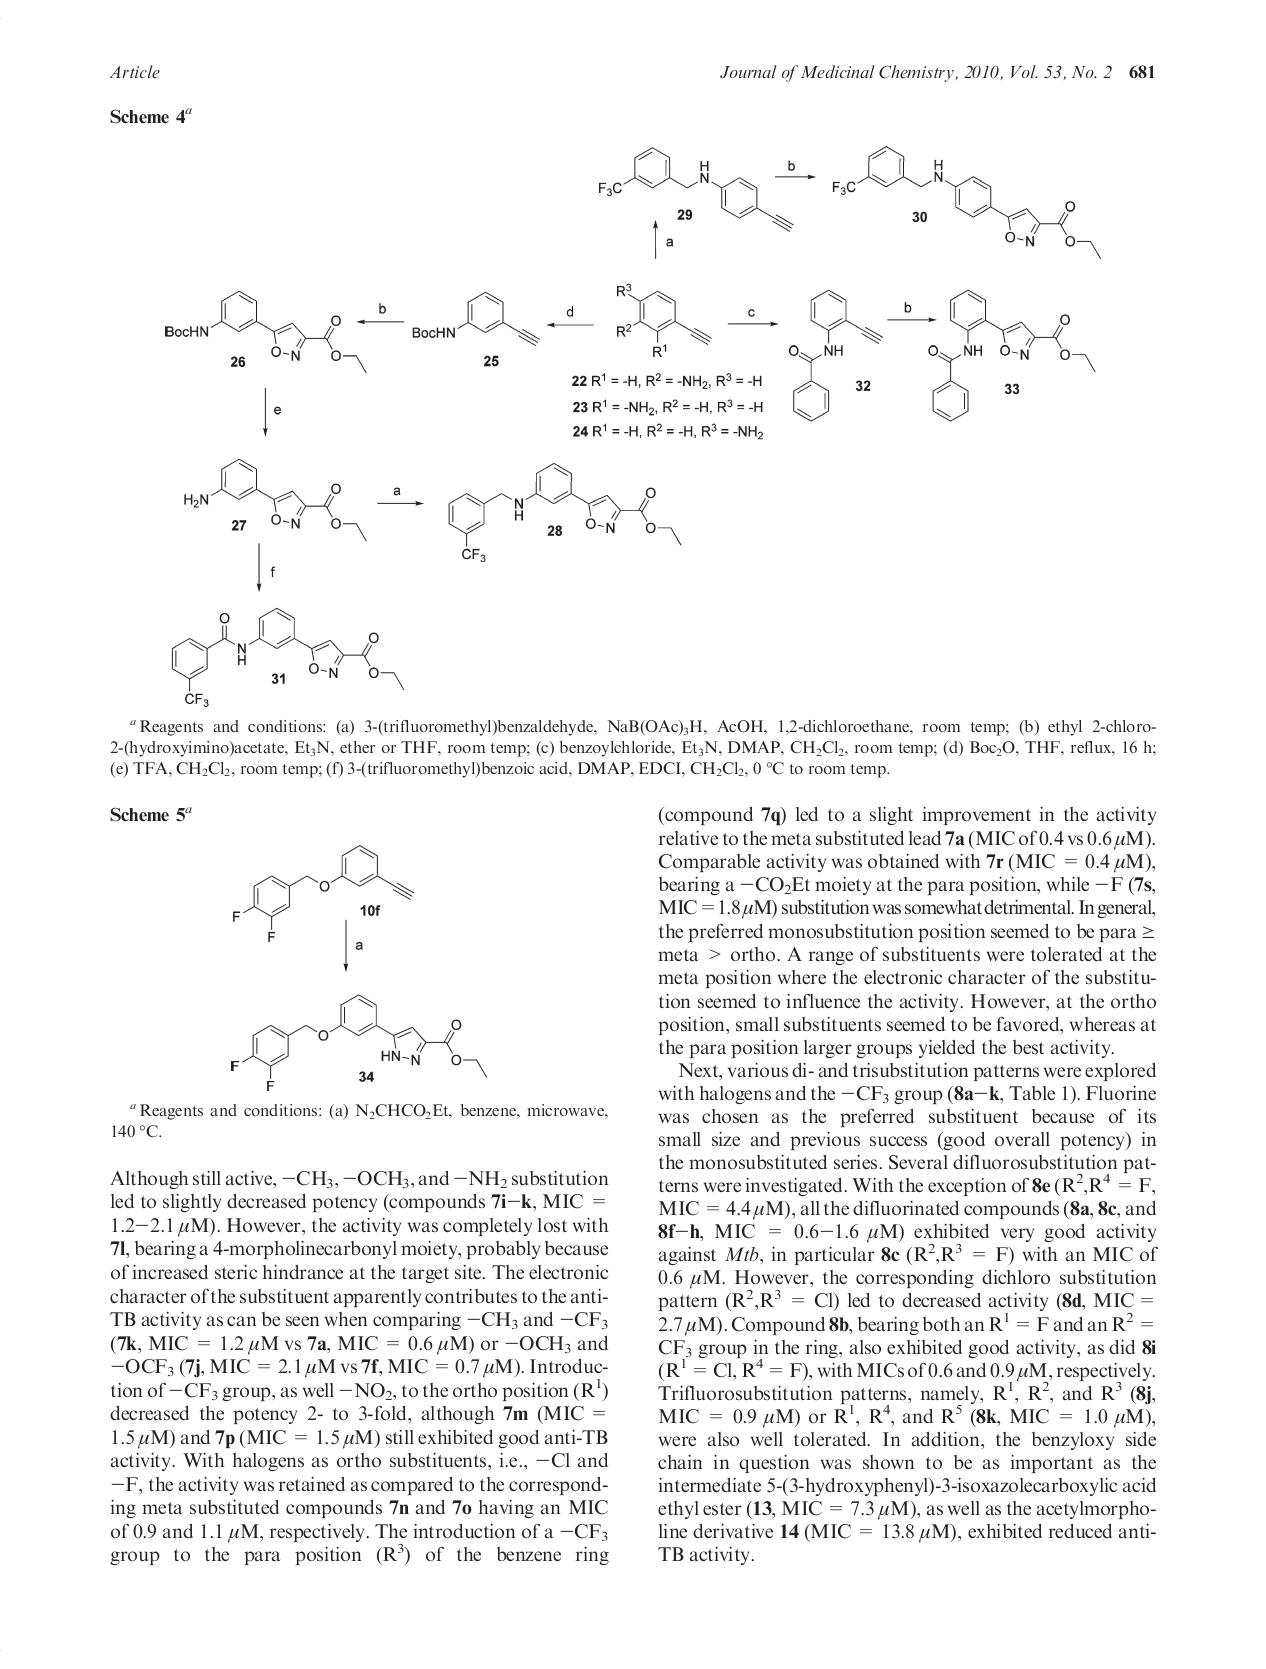exist_molecular: (831, 144, 1104, 259), (227, 992, 489, 1093), (169, 605, 406, 707), (445, 461, 684, 563), (926, 287, 1096, 422), (231, 842, 415, 943), (162, 289, 368, 376), (596, 146, 797, 233), (182, 455, 370, 544), (787, 287, 884, 423), (613, 281, 714, 358), (411, 289, 543, 346)
